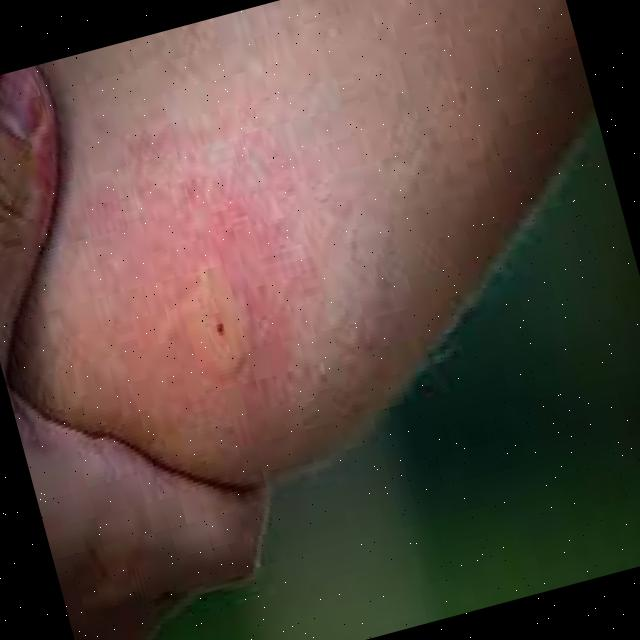kene: (160, 253, 264, 380)
